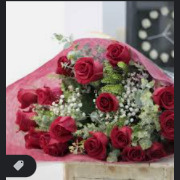RedRose: (80, 128, 108, 163), (105, 40, 133, 70), (73, 54, 103, 81), (150, 80, 174, 108), (41, 135, 71, 156), (158, 109, 176, 141), (48, 114, 75, 135), (95, 90, 119, 113), (121, 145, 148, 165), (110, 123, 133, 146), (37, 85, 64, 104), (13, 106, 38, 126), (13, 83, 37, 103), (148, 143, 172, 163), (17, 129, 41, 147), (57, 55, 72, 73)
